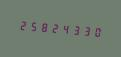eight: (39, 18, 49, 35)
five: (28, 17, 38, 35)
four: (61, 20, 71, 37)
three: (72, 21, 82, 38), (83, 22, 93, 39)
two: (17, 16, 27, 34), (50, 19, 60, 36)
zero: (94, 22, 104, 40)
